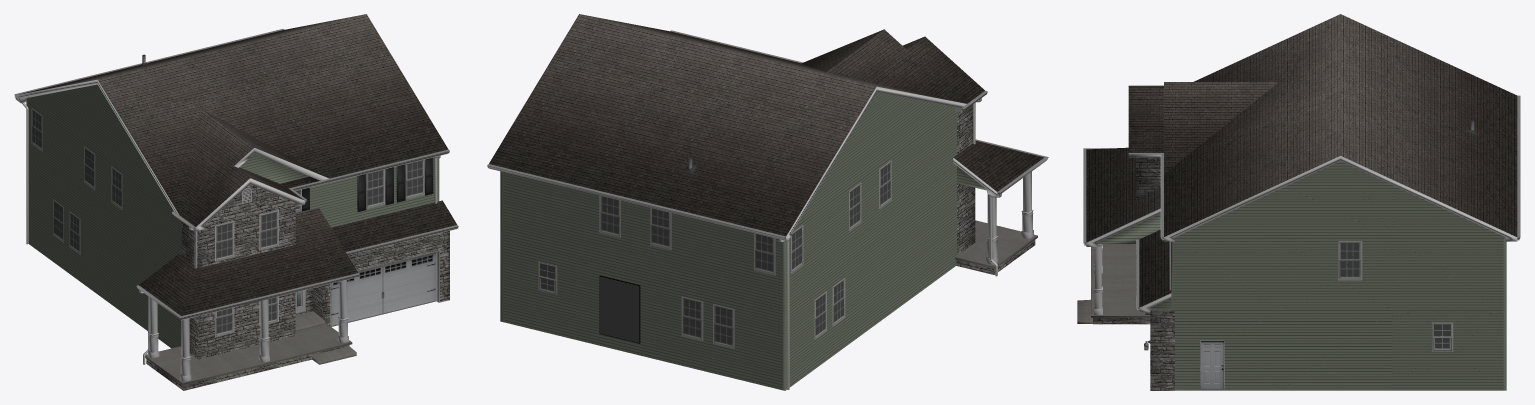
3 views of the same model, side by side, from view 1: azimuth 30°, elevation 25°; view 2: azimuth 150°, elevation 25°; view 3: azimuth 270°, elevation 25° (orthographic). The views are drawn at different scales.
Parts seen in each view (by area): view 1: polySurface895_phong6_0; view 2: polySurface895_phong6_0; view 3: polySurface895_phong6_0.
Part boxes in pixels (left/top/right/bottom): polySurface895_phong6_0: left=14, top=14, right=458, bottom=390; polySurface895_phong6_0: left=487, top=14, right=1048, bottom=390; polySurface895_phong6_0: left=1077, top=14, right=1520, bottom=390.
Bounding box in the file's own units: 1263 × 870 × 1469.
1 material, 1 textured.
